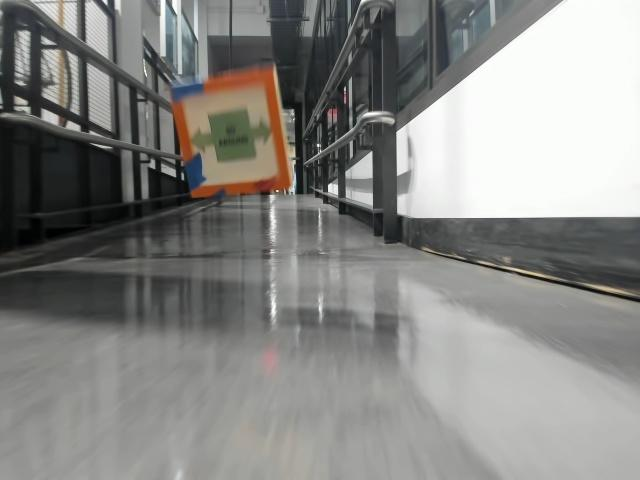Go Around: (187, 119, 265, 169)
